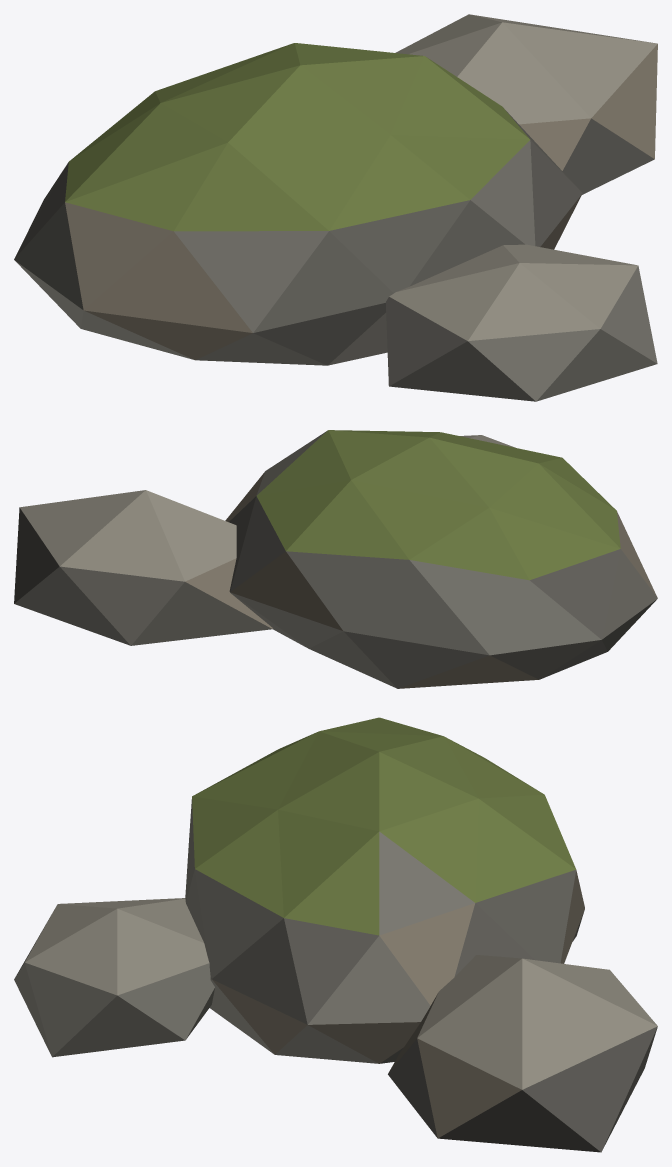
Rendered from GroundDetail_SmallStone_C.fbx.
3 renders of one model, top to bottom at view 1: azimuth 30°, elevation 25°; view 2: azimuth 150°, elevation 25°; view 3: azimuth 270°, elevation 25°, orthographic. The views are drawn at different scales.
Parts seen in each view (by area): view 1: GroundDetail_SmallStone_C; view 2: GroundDetail_SmallStone_C; view 3: GroundDetail_SmallStone_C.
Boxes of the visible parts, x1,y1,x2,y2 form: GroundDetail_SmallStone_C: [14, 14, 657, 401]; GroundDetail_SmallStone_C: [14, 430, 657, 688]; GroundDetail_SmallStone_C: [14, 717, 657, 1152].
Size of the model in its own units: 0.3209 by 0.1 by 0.2705.
Materials: 1 (1 with a texture image).
